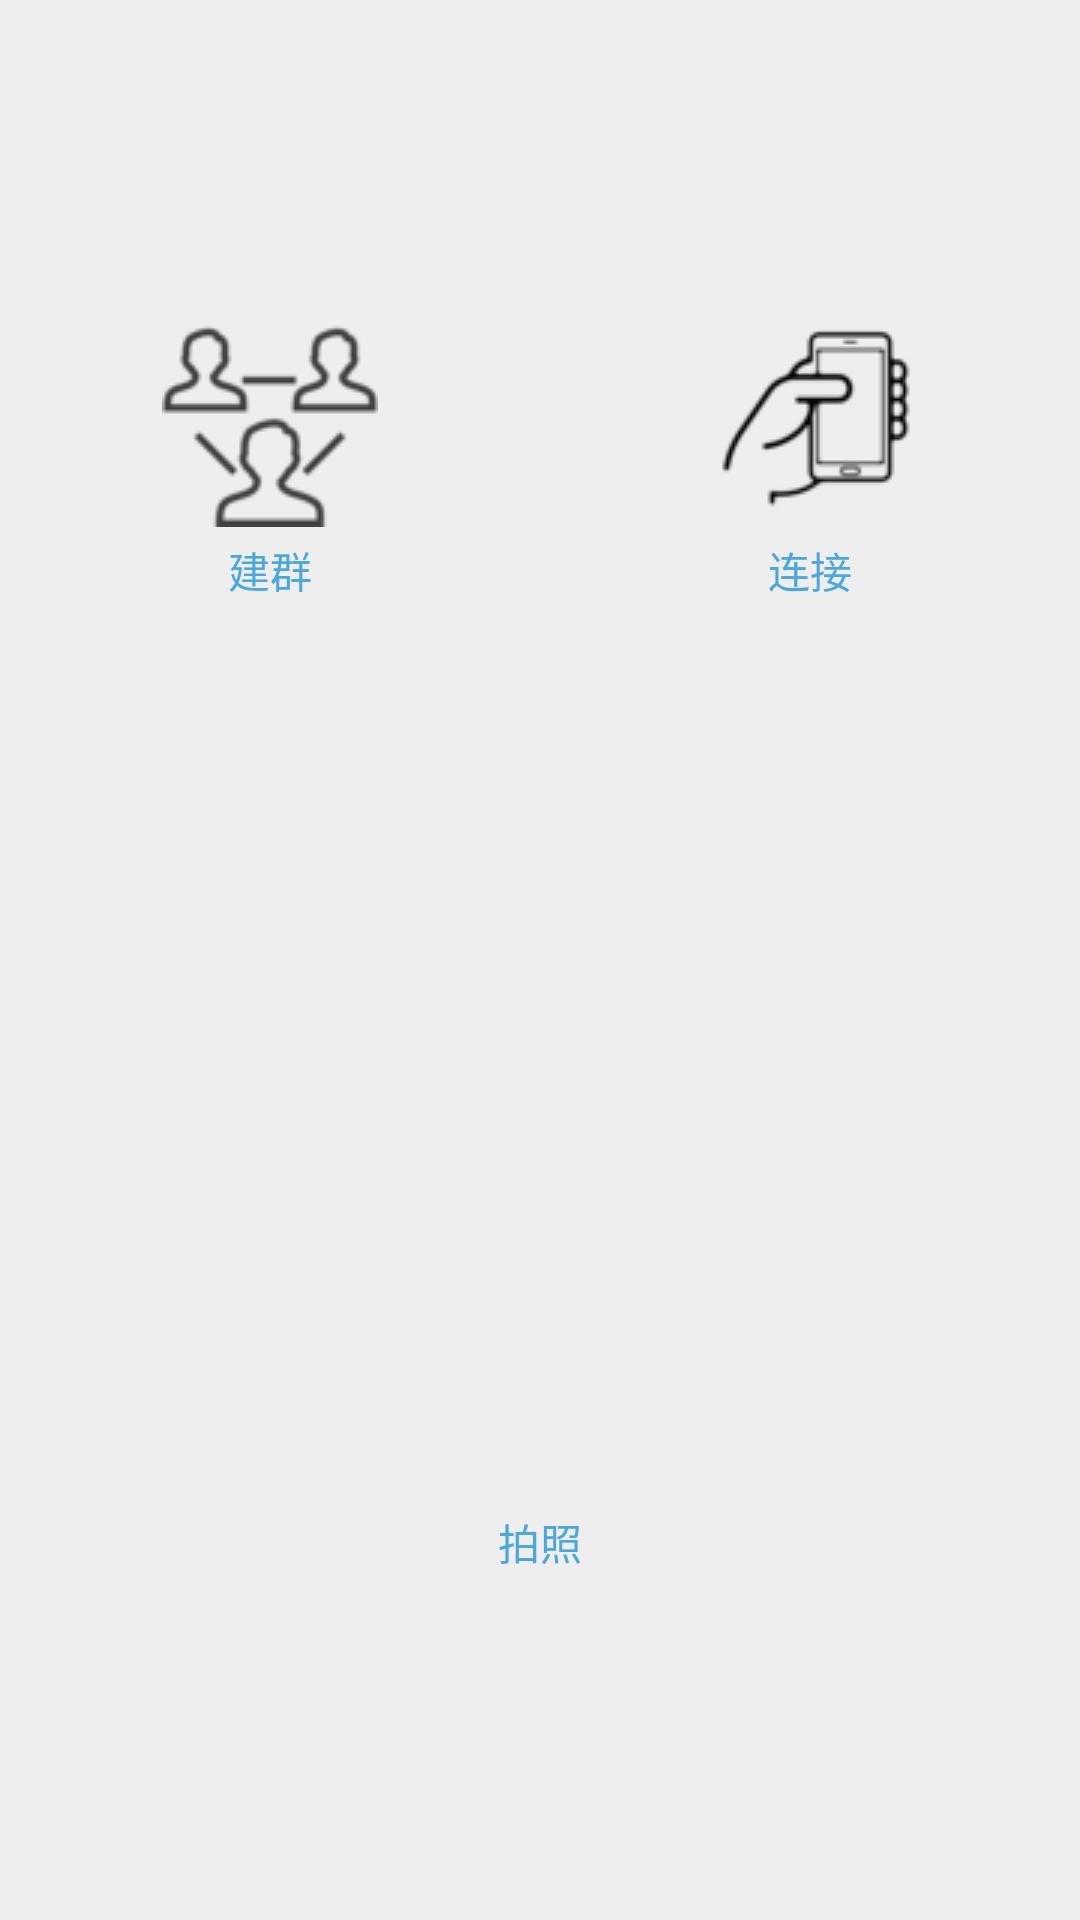

Locate icon controls on the screen. Image size 1080 x 1920, boxes as (x1, y1, x2, y2).
users: (162, 327, 378, 527)
